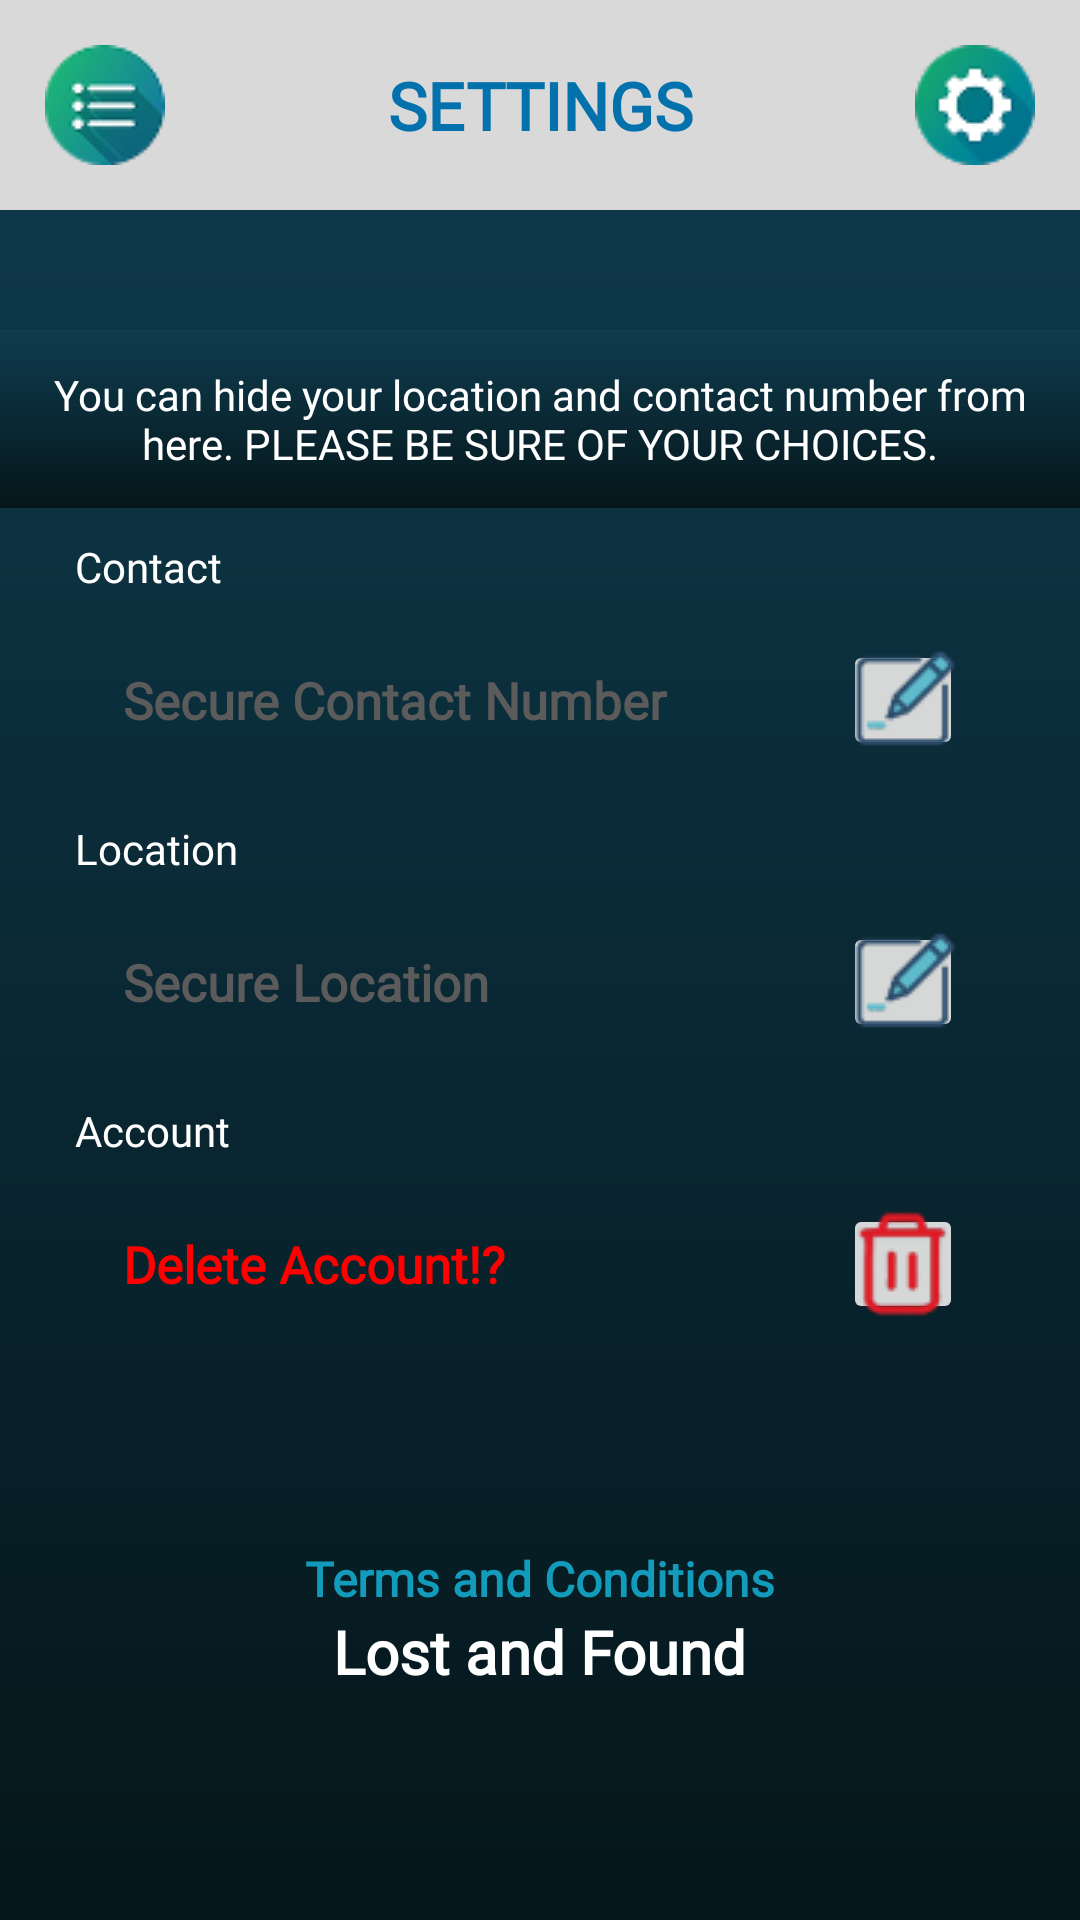

Locate icon controls on the screen. Image size 1080x1920, boxes as bbox(x1, y1, x2, y2).
delete post: bbox(855, 1212, 951, 1316)
edit post: bbox(855, 652, 953, 745), bbox(855, 934, 954, 1027)
Menu Options: bbox(45, 45, 165, 165)
